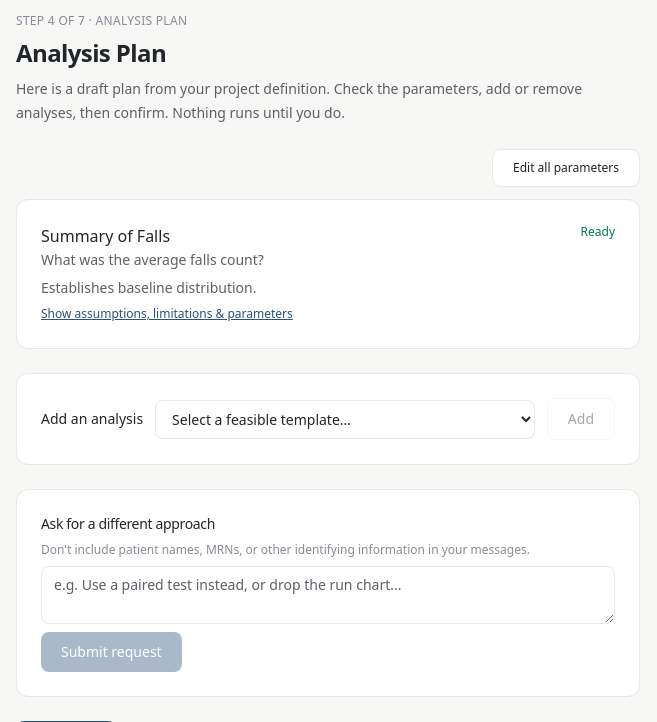
Test case: AnalysisPlanStage rich plan review › adds a feasible analysis via the picker
Expected: the text "Summary of Falls" is shown, left=41, top=225, right=170, bottom=247
Select "Run Chart" in the dropdown labelled "Add an analysis" at (345, 419), box left=155, top=400, right=535, bottom=438
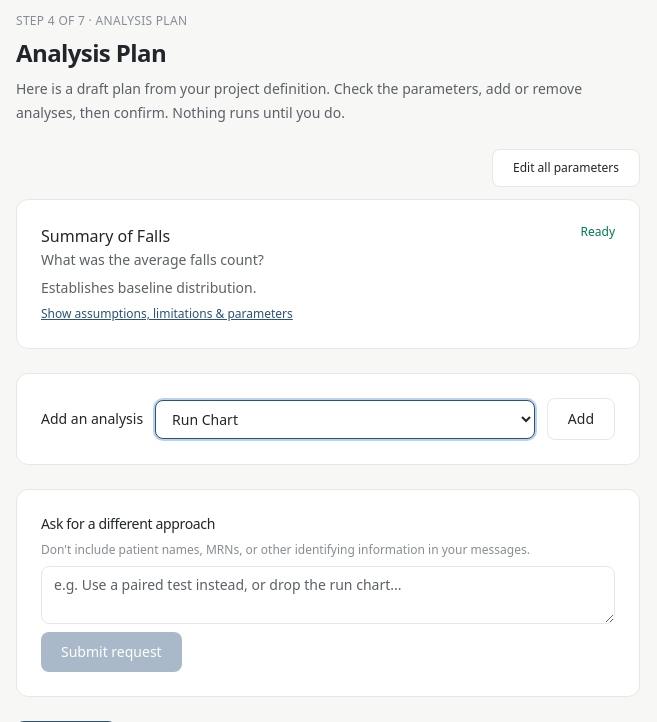
Click the button "Add" at (581, 419), box left=547, top=398, right=615, bottom=440
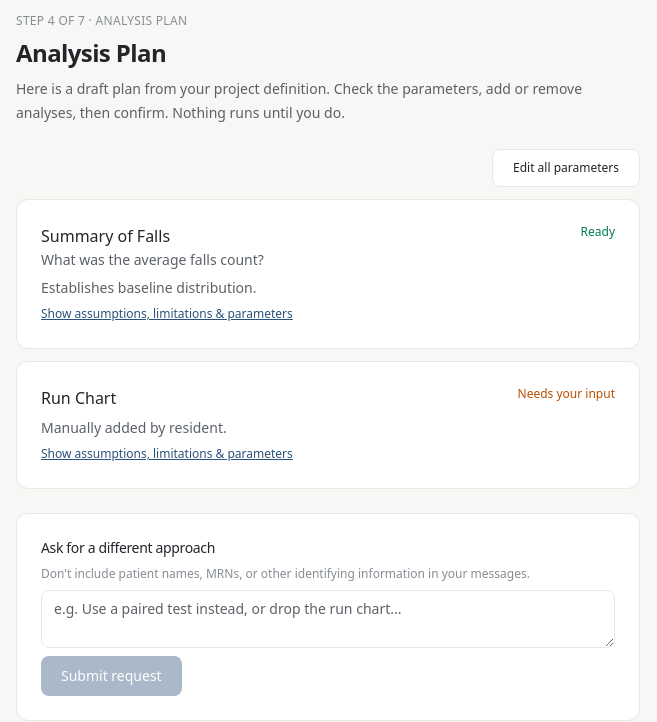
Result: the text "Run Chart" is shown at left=41, top=386, right=116, bottom=410
